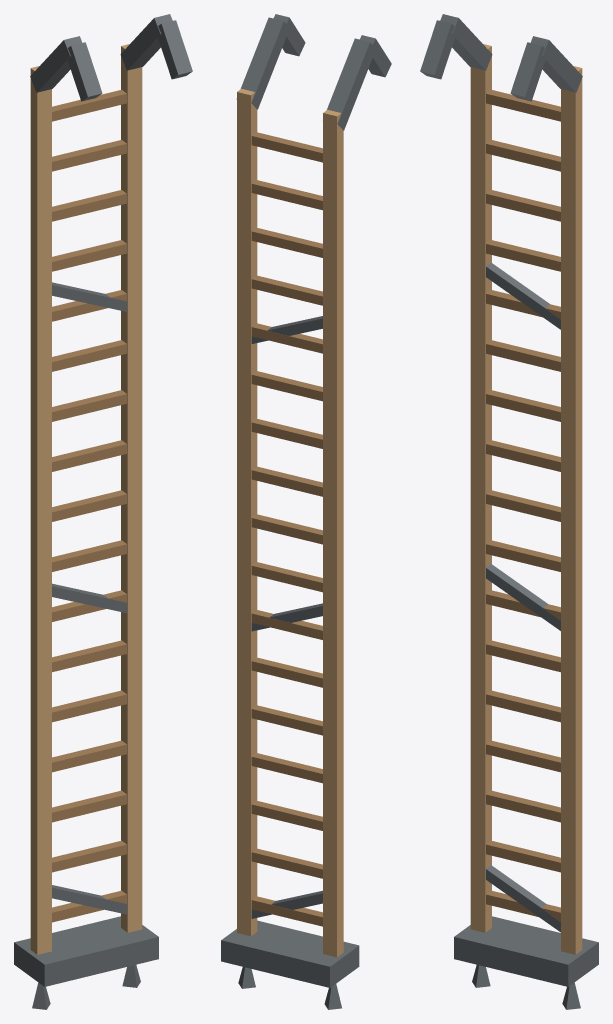
File: hooked-scaling-ladder.glb
3 views of the same model, side by side, from view 1: azimuth 30°, elevation 25°; view 2: azimuth 150°, elevation 25°; view 3: azimuth 330°, elevation 25° (orthographic). The views are drawn at different scales.
Parts seen in each view (by area): view 1: hooked-scaling-ladder; view 2: hooked-scaling-ladder; view 3: hooked-scaling-ladder.
Part boxes in pixels (x1,y1,x2,y2): hooked-scaling-ladder: (14, 14, 192, 1009); hooked-scaling-ladder: (221, 14, 391, 1009); hooked-scaling-ladder: (420, 14, 598, 1009).
Size of the model in its own units: 0.8599 by 7.12 by 0.9034.
